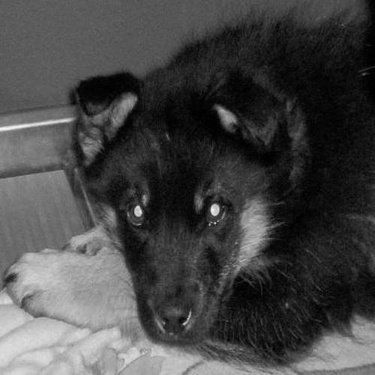dog: (4, 4, 369, 366)
